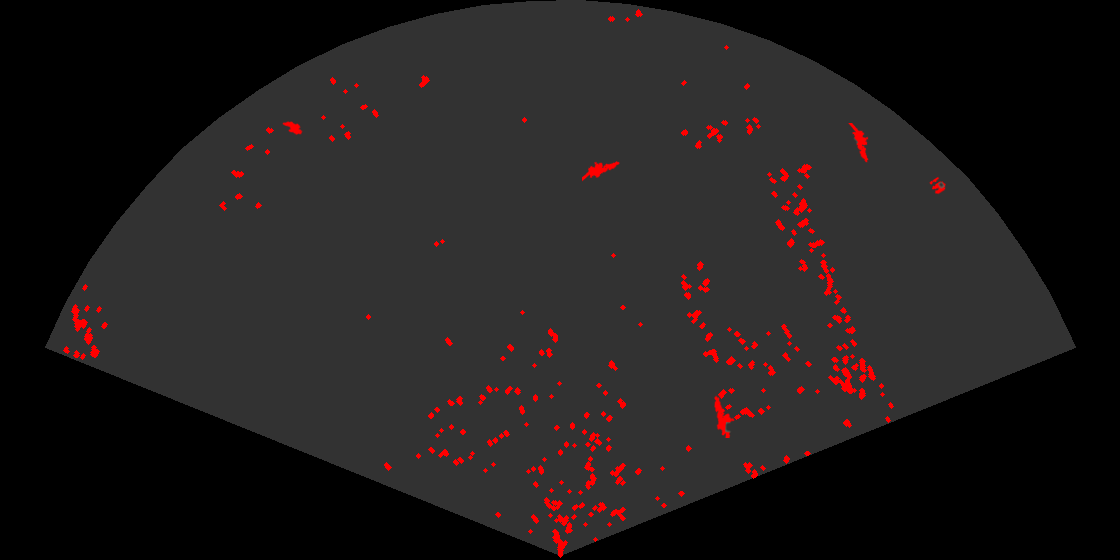AUV: (281, 120, 304, 136)
ball: (928, 175, 947, 196)
frogman: (713, 395, 736, 438), (846, 123, 870, 163), (582, 159, 621, 183)
